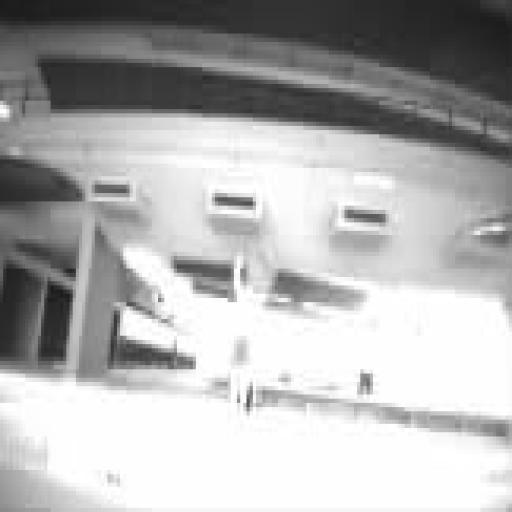human: (227, 255, 256, 418), (348, 317, 382, 413)
